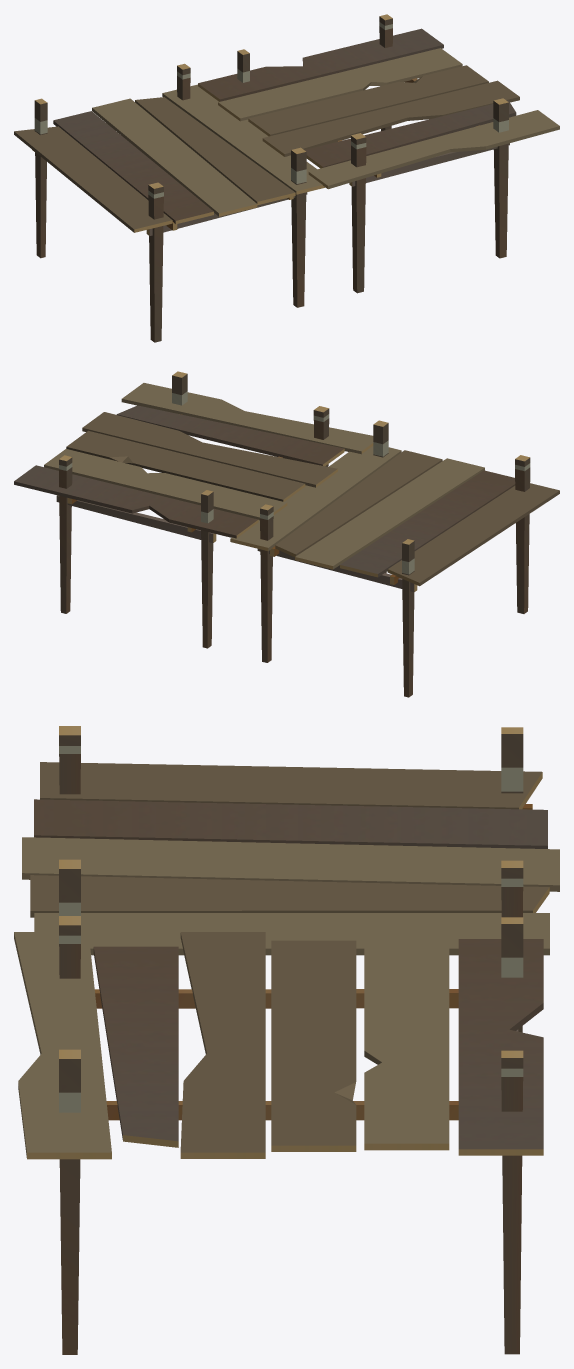
Rendered from Dock_3.fbx.
3 views of the same model, one above another, from view 1: azimuth 30°, elevation 25°; view 2: azimuth 150°, elevation 25°; view 3: azimuth 270°, elevation 25° (orthographic). The views are drawn at different scales.
Visible parts, largest first — view 1: polySurface9967; view 2: polySurface9967; view 3: polySurface9967.
Part boxes in pixels (box(x1,y1,x2,y2)): polySurface9967: box(14, 14, 559, 342); polySurface9967: box(14, 371, 559, 697); polySurface9967: box(14, 726, 559, 1354).
Bounding box in the file's own units: 1071 × 375 × 624.
